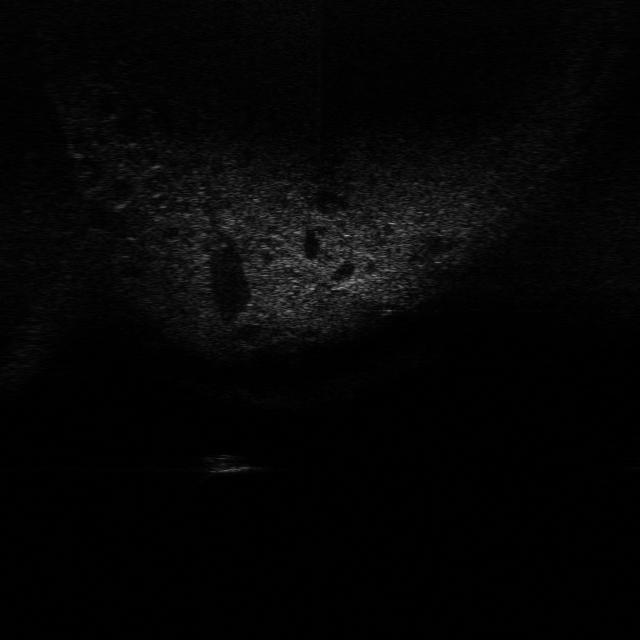cube: (196, 450, 260, 477)
